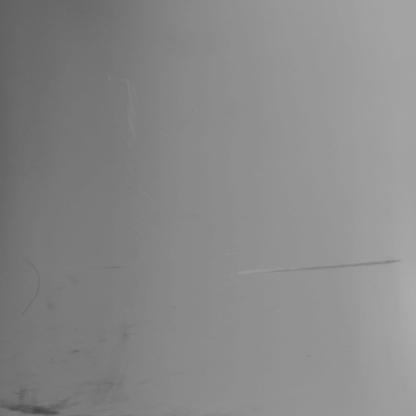sunshang: (242, 258, 397, 278), (19, 257, 41, 318)
